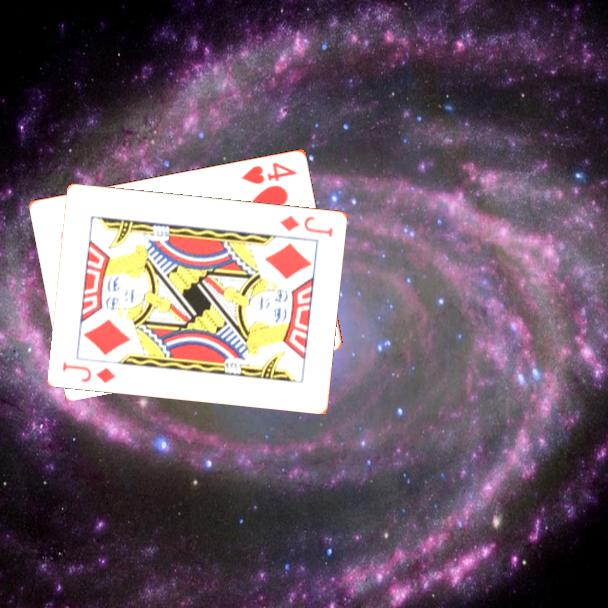d11: (59, 358, 119, 386), (277, 211, 336, 239)
h04: (238, 158, 300, 187)
